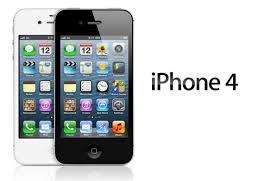iphone: (52, 6, 136, 169)
iphone4: (51, 6, 135, 169)
